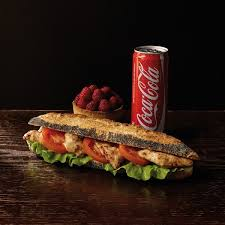coke: (127, 42, 175, 131)
